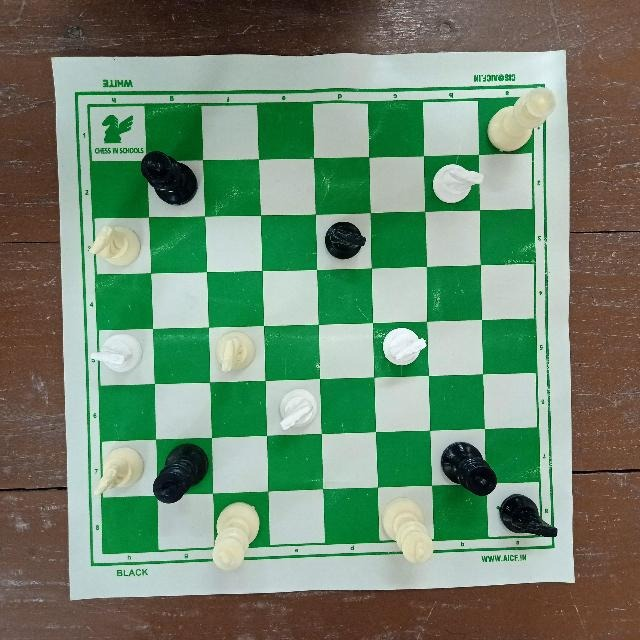black-king: (149, 440, 212, 509), (134, 145, 200, 208), (437, 437, 498, 497)
black-knight: (498, 490, 564, 543), (317, 210, 372, 265)
white-king: (207, 498, 261, 576), (380, 491, 436, 566)
white-knight: (84, 219, 142, 272), (90, 446, 140, 504), (375, 324, 432, 371), (433, 160, 485, 210), (87, 328, 142, 375), (215, 327, 261, 381), (272, 385, 319, 436)
white-queen: (485, 84, 562, 156)
